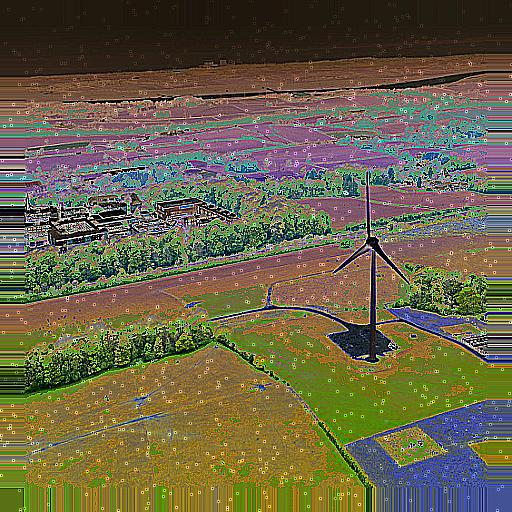wind turbine: (332, 170, 409, 360)
